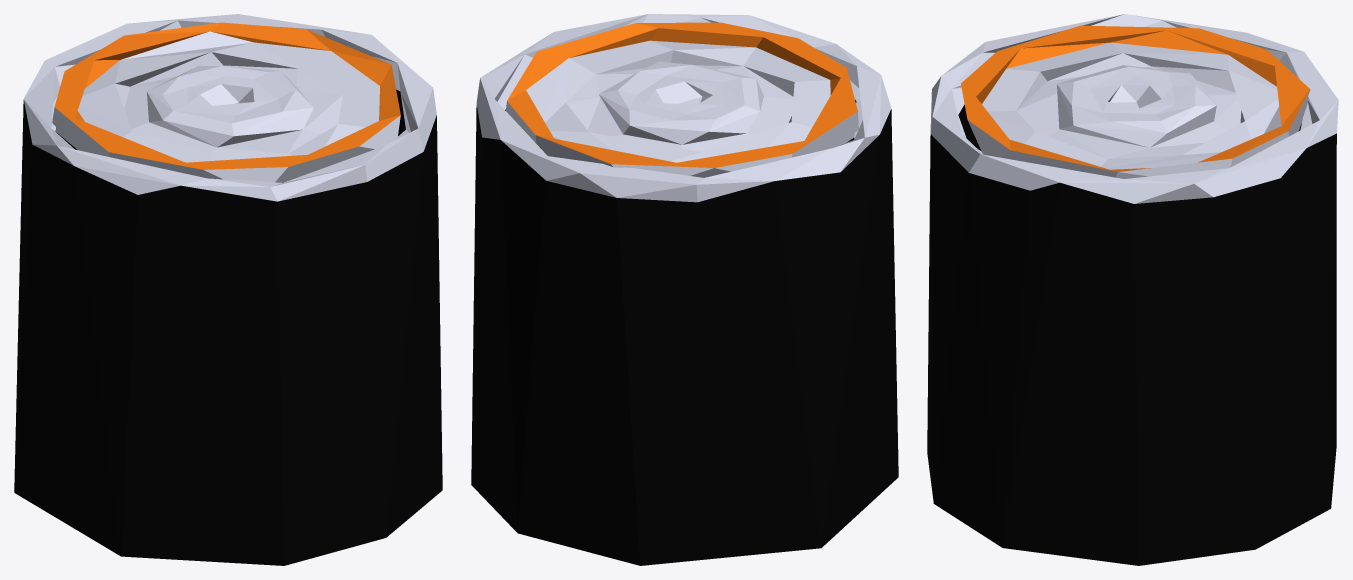
File: manhole.glb
3 views of the same model, side by side, from view 1: azimuth 30°, elevation 25°; view 2: azimuth 150°, elevation 25°; view 3: azimuth 270°, elevation 25° (orthographic).
Visible parts, largest first — view 1: hole, man; view 2: hole, man; view 3: hole, man.
Part boxes in pixels (box(x1,y1,x2,y2)): hole: box(14, 14, 442, 565); man: box(52, 22, 400, 182); hole: box(471, 14, 898, 565); man: box(506, 22, 858, 177); hole: box(927, 14, 1338, 565); man: box(961, 25, 1310, 178).
Size of the model in its own units: 1.29 by 1.31 by 1.28.
